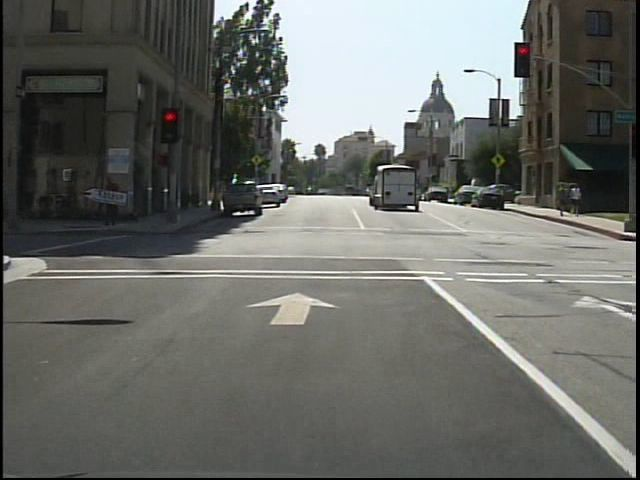person: (98, 172, 128, 229), (557, 183, 572, 219), (568, 183, 583, 216)
